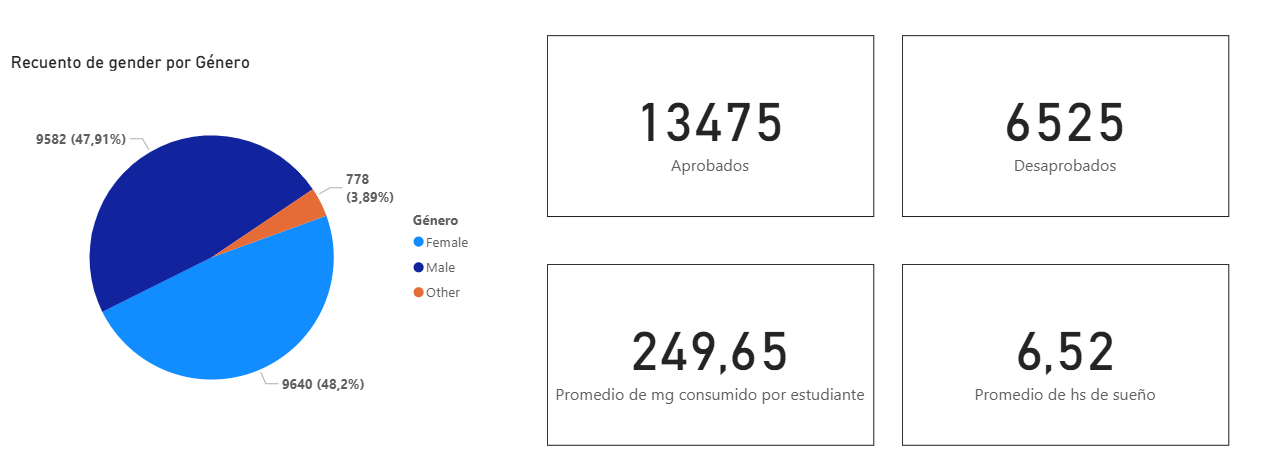

This screenshot's page, from the dashboard's own definition file:
{"tool":"powerbi","page":{"name":"Página 1","canvas":[1280,720],"ordinal":0},"visuals":[{"type":"pieChart","fields":{"Category":["student_productivity_distractio.gender"],"Y":["CountNonNull(student_productivity_distractio.gender)"]},"box":[13.7,72.7,476.2,391.1],"z":0},{"type":"card","fields":{"Values":["student_productivity_distractio.Aprobados"]},"box":[552.7,55.4,325.2,181.1],"z":1},{"type":"card","fields":{"Values":["student_productivity_distractio.Desaprobados"]},"box":[905.4,55.4,325.2,181.1],"z":2},{"type":"card","fields":{"Values":["Avg(student_productivity_distractio.coffee_intake_mg)"]},"box":[552.7,283.2,325.2,181.1],"z":3},{"type":"card","fields":{"Values":["Avg(student_productivity_distractio.sleep_hours)"]},"box":[905.4,283.2,325.2,181.1],"z":4}]}

Visuals, with their boxes on the page's 1280x720 design canvas (x1, y1, x2, y2). These are canvas units, not pixel positions in the 1262x467 screenshot, which may show the page scaled, cropped or inside an application window:
pieChart - student_productivity_distractio.gender x CountNonNull(student_productivity_distractio.gender): [14, 73, 490, 464]
card - student_productivity_distractio.Aprobados: [553, 55, 878, 236]
card - student_productivity_distractio.Desaprobados: [905, 55, 1231, 236]
card - Avg(student_productivity_distractio.coffee_intake_mg): [553, 283, 878, 464]
card - Avg(student_productivity_distractio.sleep_hours): [905, 283, 1231, 464]
